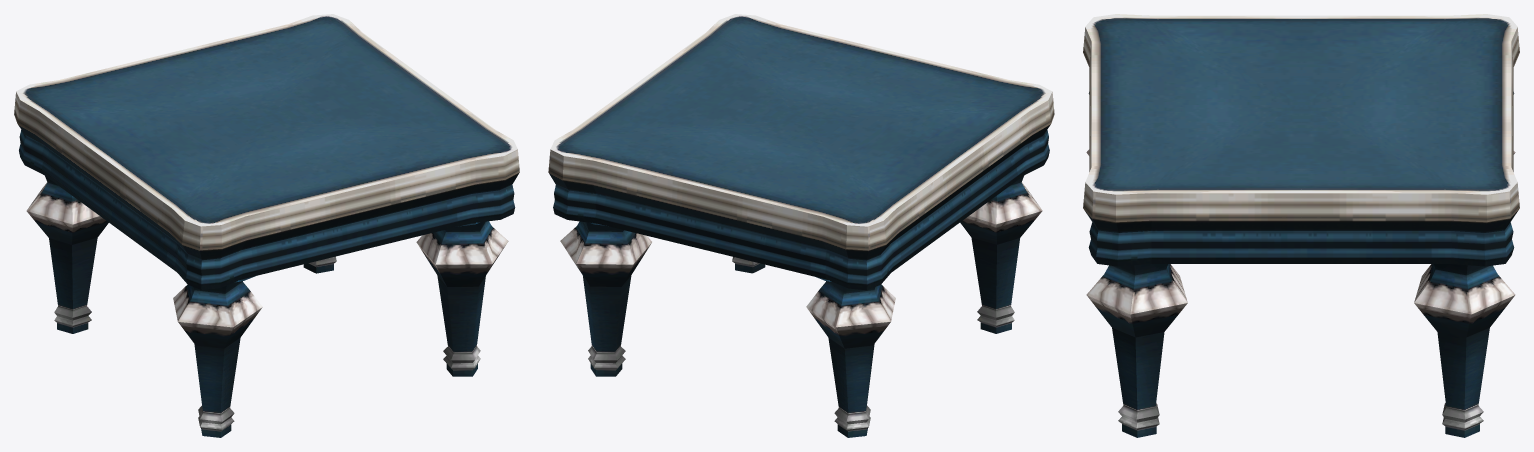
Rendered from furni_0201109_03.FBX.
3 renders of one model, left to right at view 1: azimuth 30°, elevation 25°; view 2: azimuth 150°, elevation 25°; view 3: azimuth 270°, elevation 25°, orthographic. The views are drawn at different scales.
Parts seen in each view (by area): view 1: furni_0201109_03; view 2: furni_0201109_03; view 3: furni_0201109_03.
Boxes of the visible parts, x1,y1,x2,y2 form: furni_0201109_03: (14,14,519,437); furni_0201109_03: (548,14,1054,437); furni_0201109_03: (1083,14,1519,437).
Size of the model in its own units: 77.46 by 50.62 by 77.79.
1 material, 1 textured.
